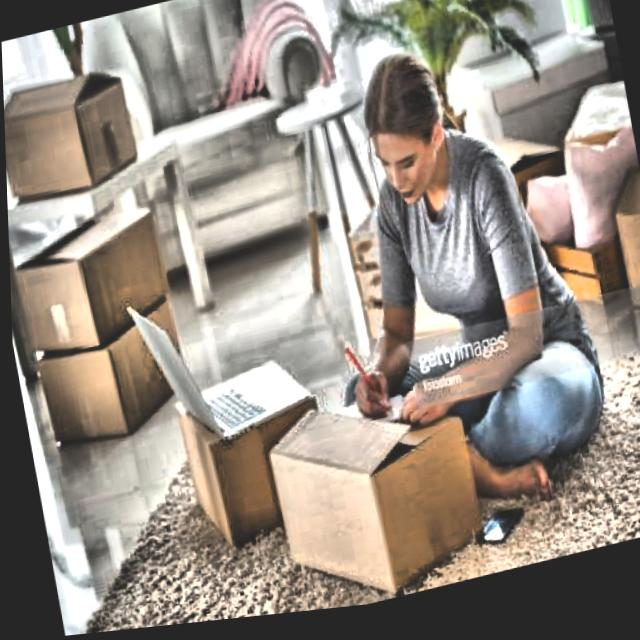Cardbox: (20, 292, 204, 470), (6, 197, 173, 358), (2, 44, 149, 217)
